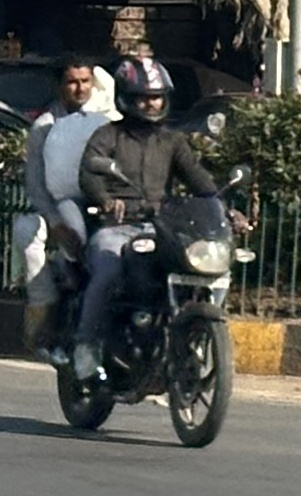BikeWithRider: (8, 23, 252, 452)
Helmet: (111, 59, 175, 125)
NoHelmet: (50, 53, 96, 107)
